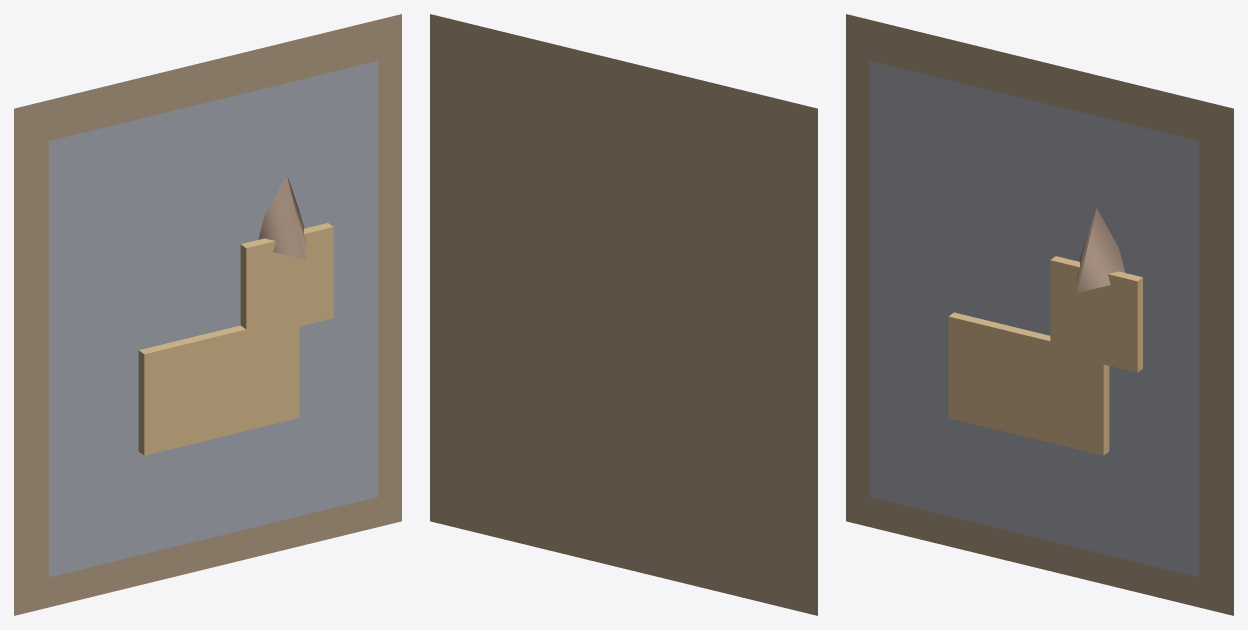
The model's file is portrait-puppy.gltf.
The picture shows the model from 3 angles, left to right: view 1: azimuth 30°, elevation 25°; view 2: azimuth 150°, elevation 25°; view 3: azimuth 330°, elevation 25°; orthographic projection.
Parts seen in each view (by area): view 1: Mount, Frame, Body, Head, Ear; view 2: Frame; view 3: Mount, Frame, Body, Head, Ear.
Boxes of the visible parts, <box> form: Mount: <box>48,61,378,577</box>; Frame: <box>14,14,401,615</box>; Body: <box>138,316,299,455</box>; Head: <box>240,223,333,329</box>; Ear: <box>258,175,306,259</box>; Frame: <box>430,14,817,615</box>; Mount: <box>869,61,1199,577</box>; Frame: <box>846,14,1233,615</box>; Body: <box>948,312,1109,455</box>; Head: <box>1050,256,1142,372</box>; Ear: <box>1077,208,1125,292</box>.
Size of the model in its own units: 0.8 by 1 by 0.11.
